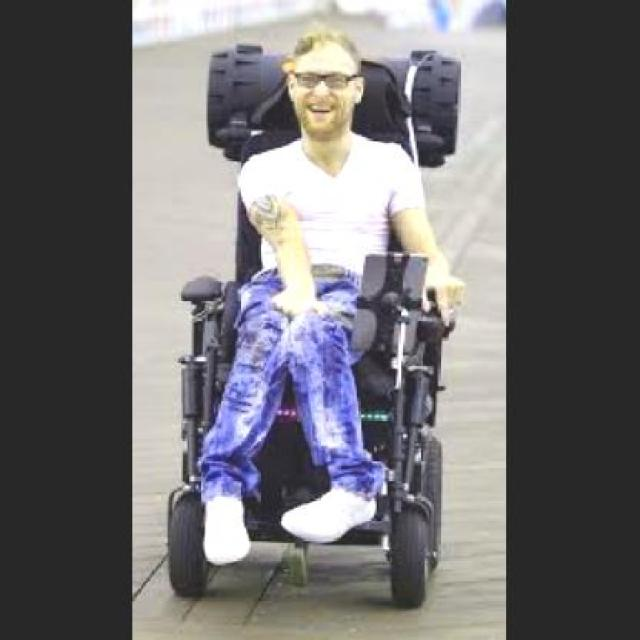wheelchairs: (165, 251, 458, 614)
